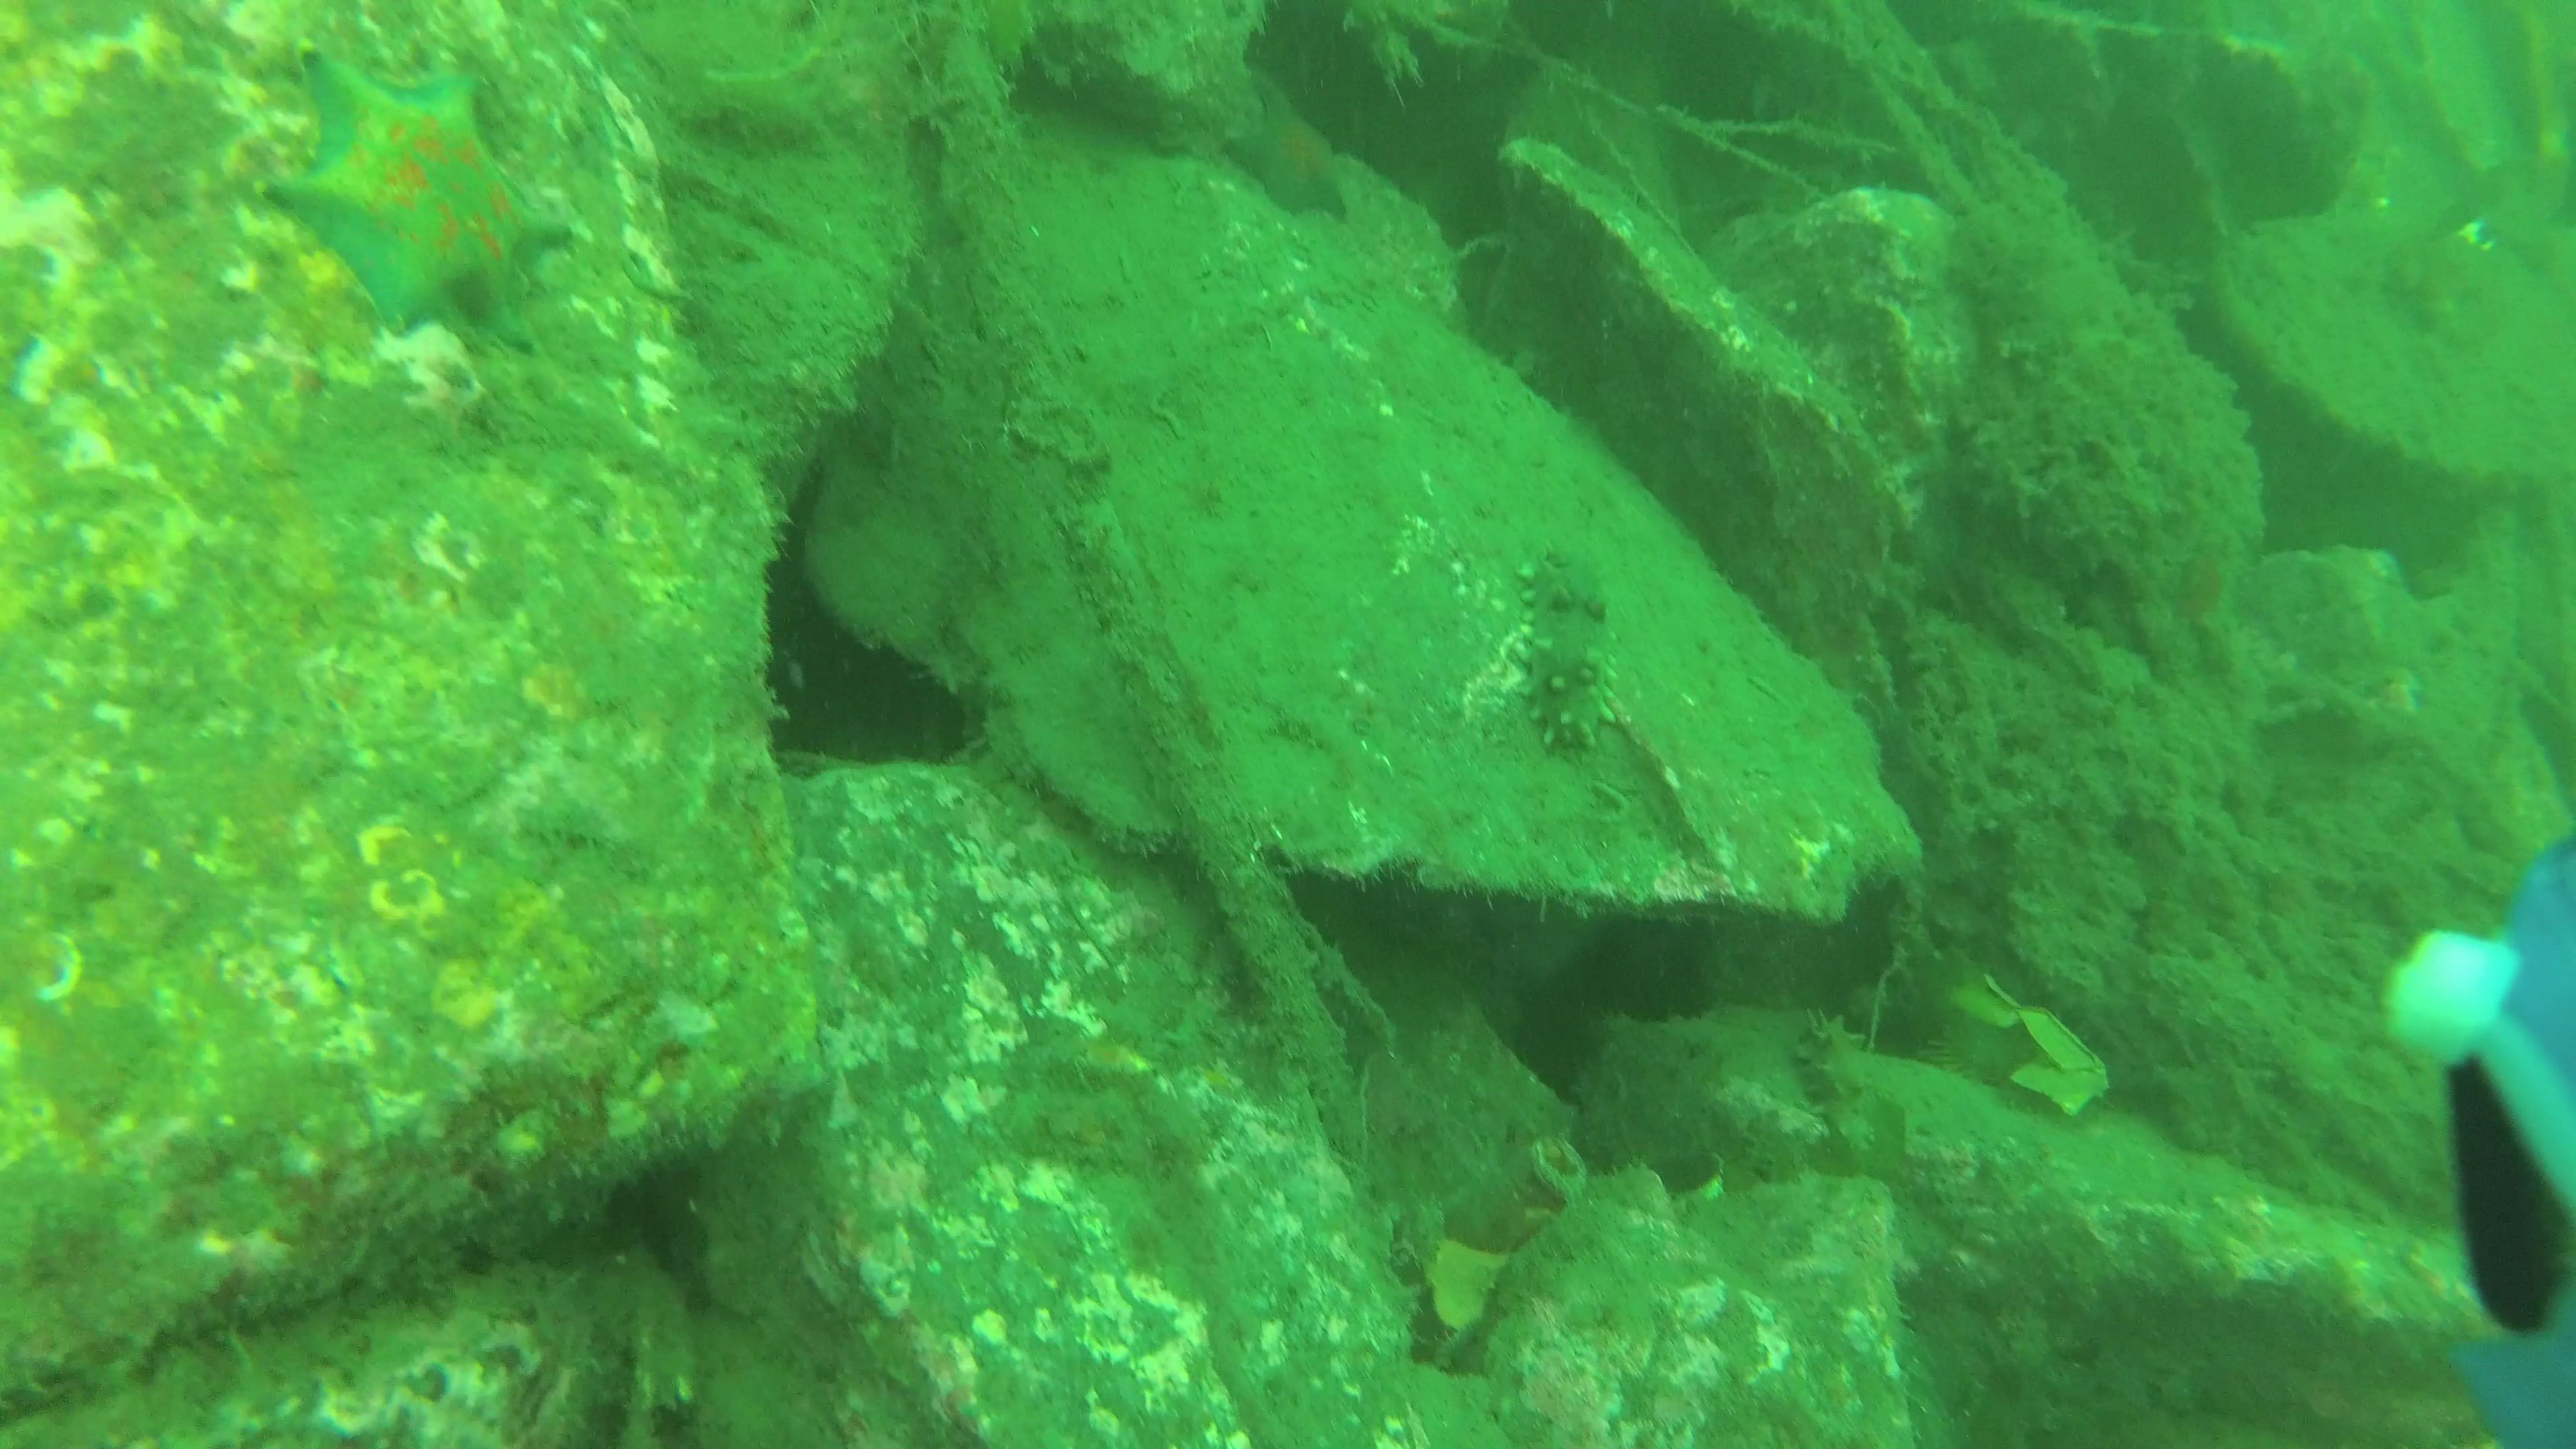holothurian: (1504, 534, 1626, 766)
starfish: (249, 35, 582, 349), (1221, 71, 1353, 237)
